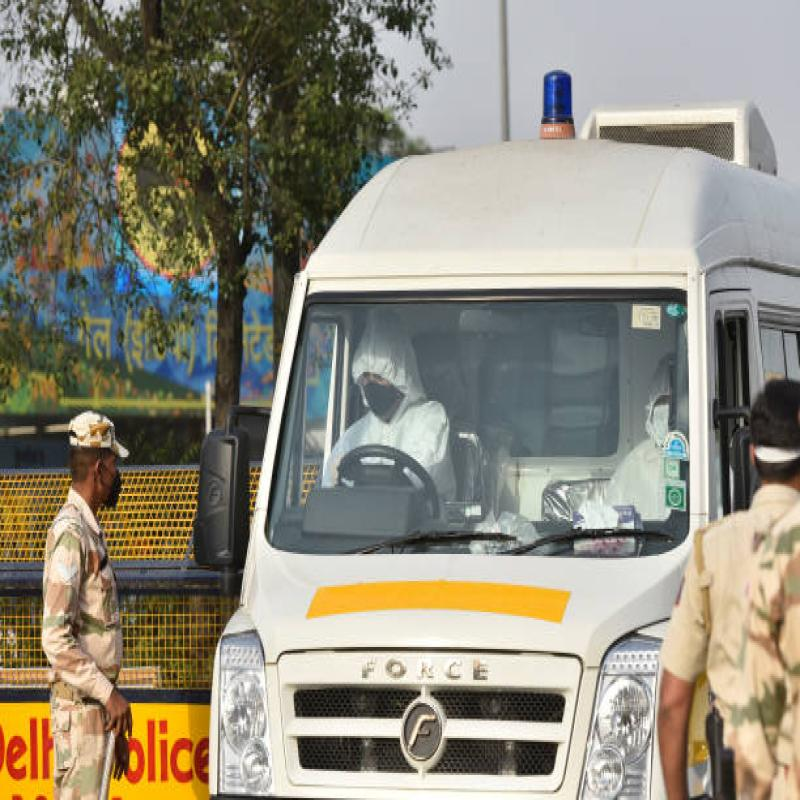ambulance: (191, 28, 800, 800)
